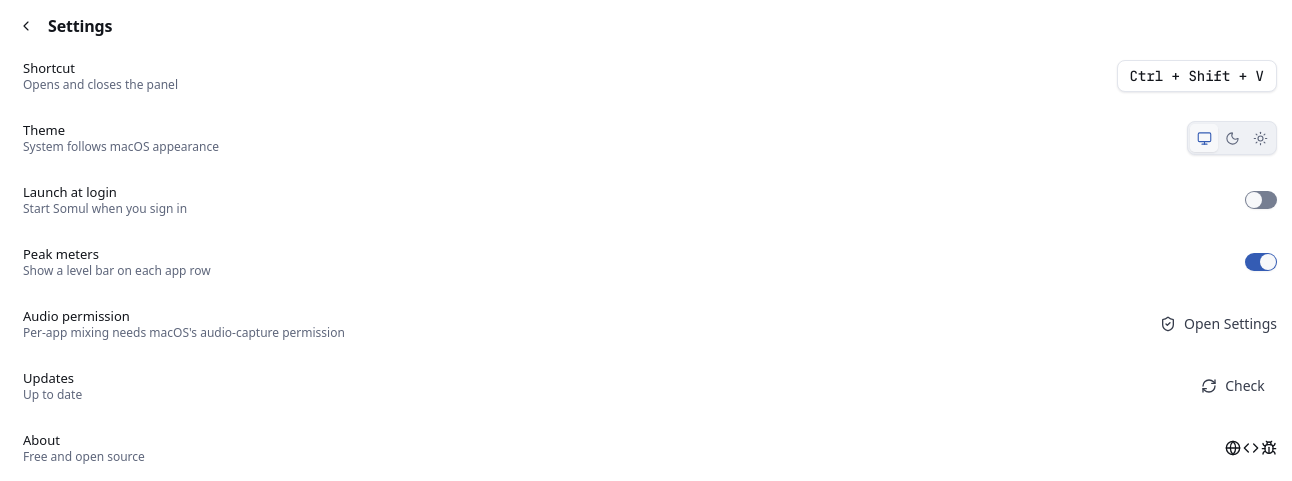
Scenario: SettingsView › restores the ordinary hint once recording ends
Click the button with aria-label "Change the panel shortcut".
click(1197, 76)  # box [1117,60,1277,92]
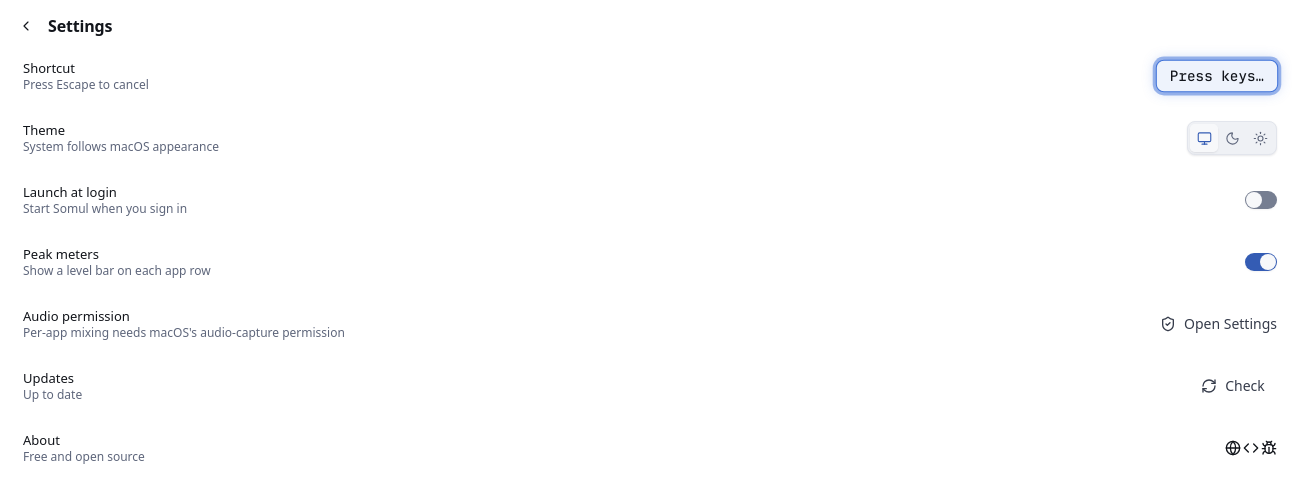
Press Escape
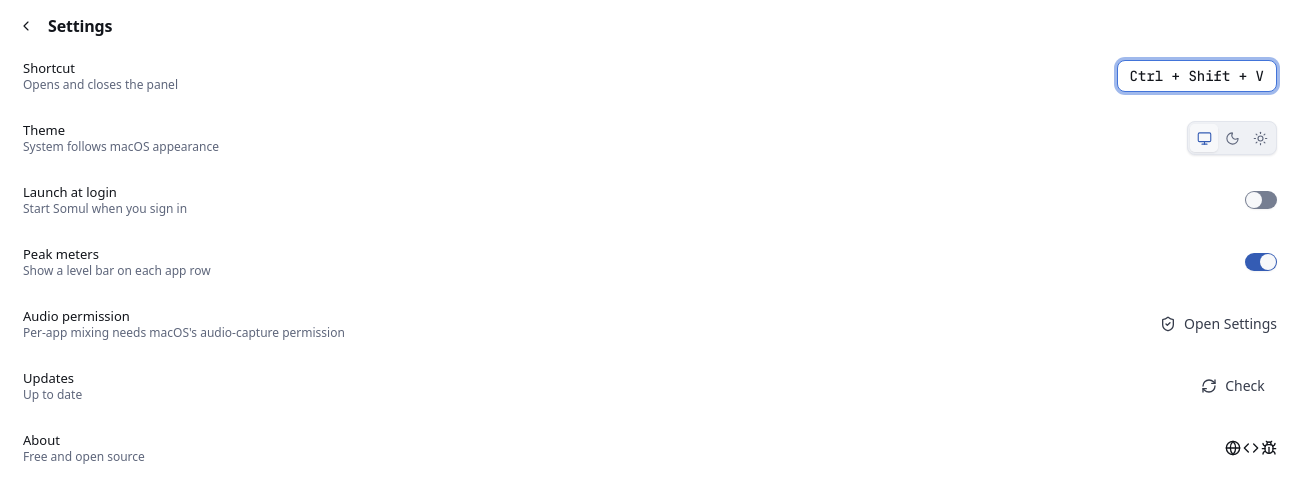
Now the text "Opens and closes the panel" is shown, box [23,76,178,93]
